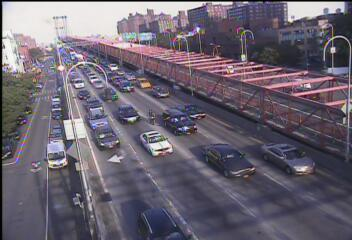neg: (134, 186, 155, 214), (99, 77, 118, 102), (278, 156, 296, 180), (87, 126, 105, 149), (42, 183, 59, 207), (32, 71, 49, 93), (215, 149, 230, 169)
